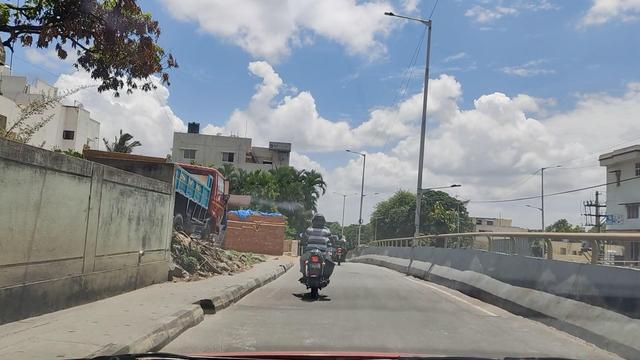RoadDamages: (220, 314, 263, 353)
